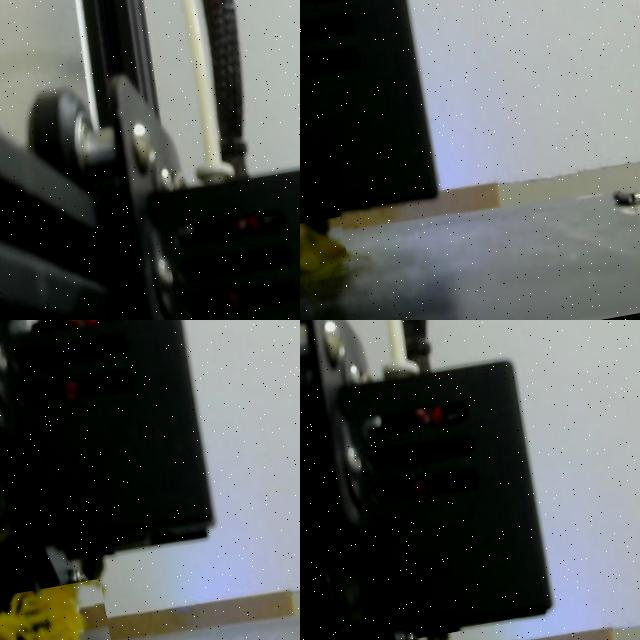spaghetti: (0, 578, 100, 640), (300, 222, 347, 274)
